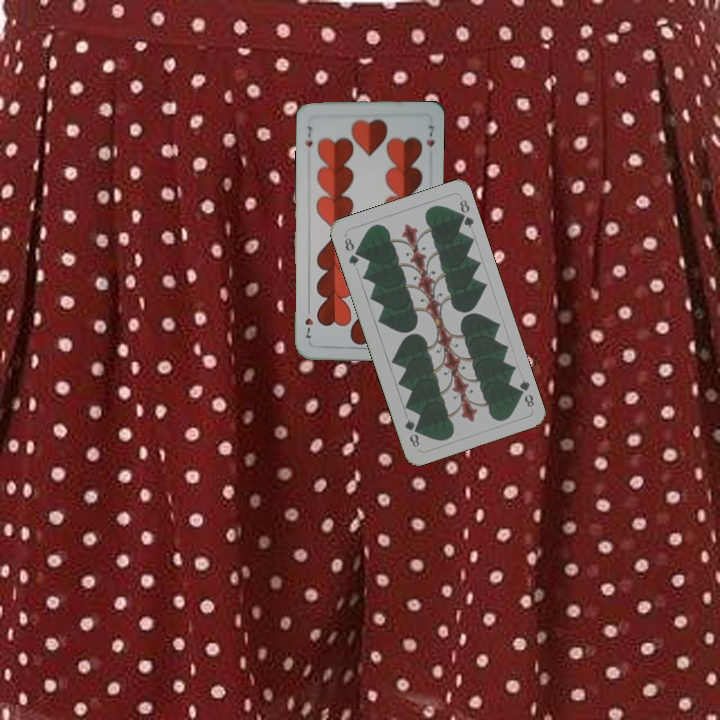G8: (512, 375, 537, 410), (340, 234, 361, 269)
H7: (301, 123, 315, 149)
